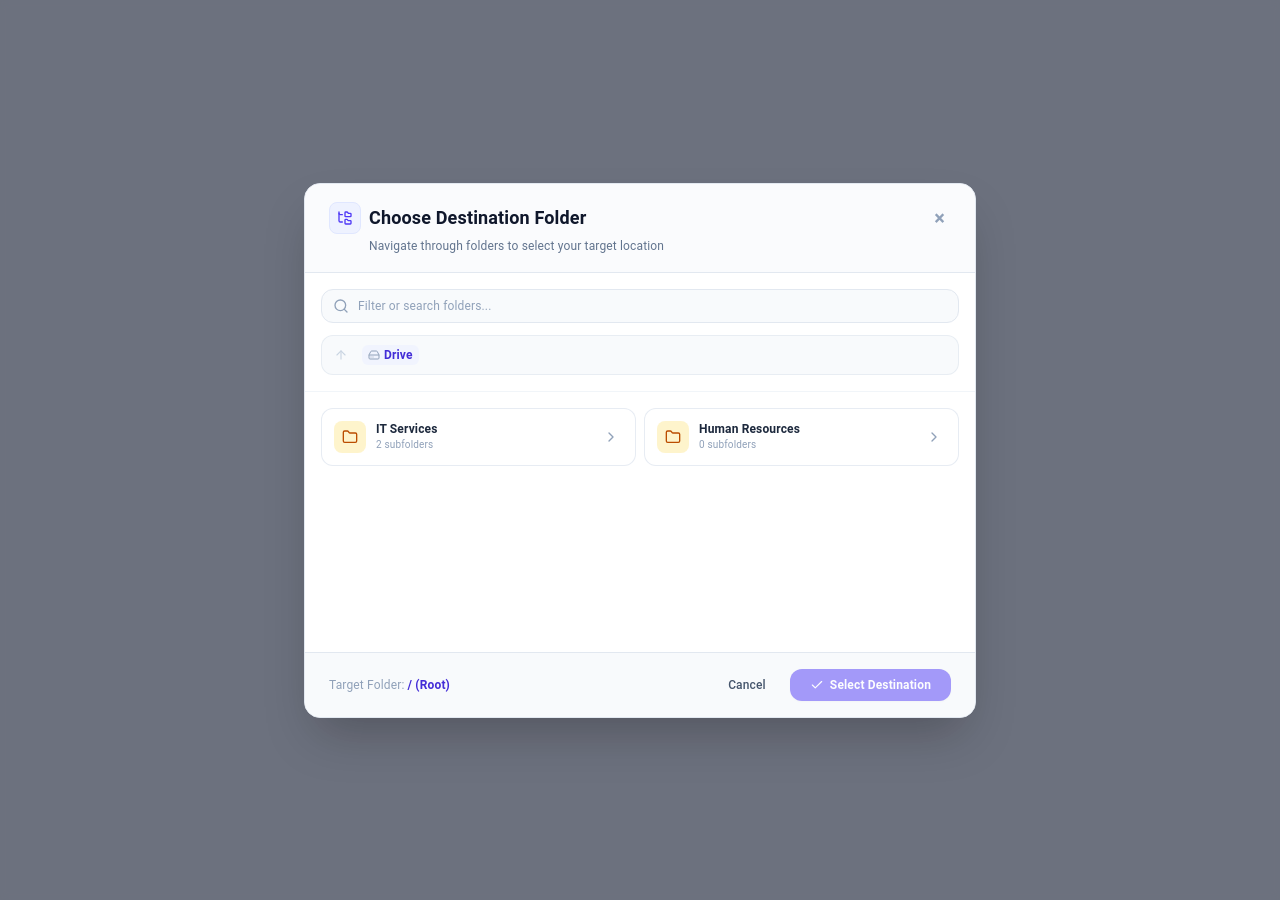
it: FolderExplorerModal › filters folders when search query is entered
Type "laptops" into the field with placeholder "Filter or search folders..." at (640, 306), box [321,288,959,322]
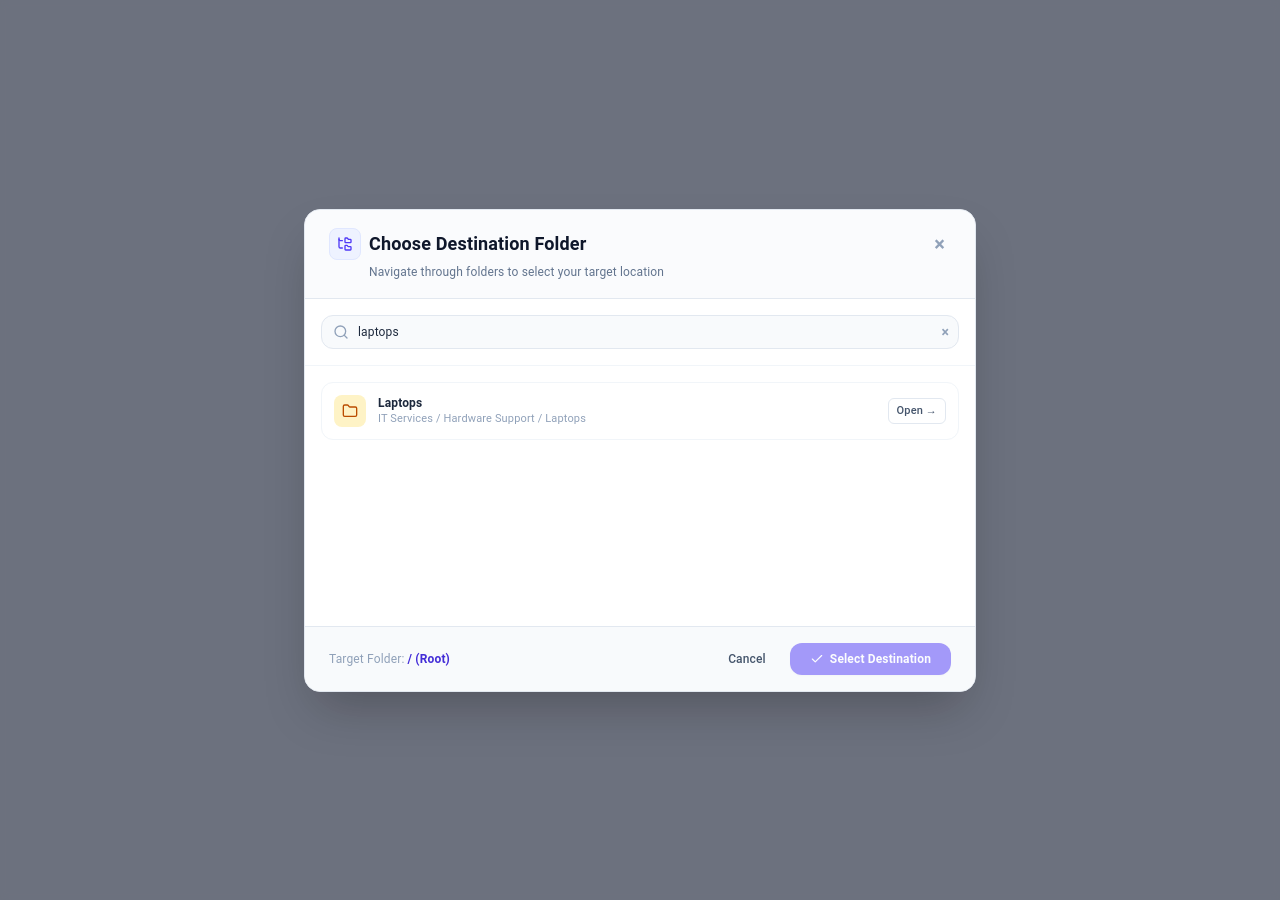
Expected: the text "Laptops" is shown, [378,396,422,410]
Expected: the text "Human Resources" is gone
